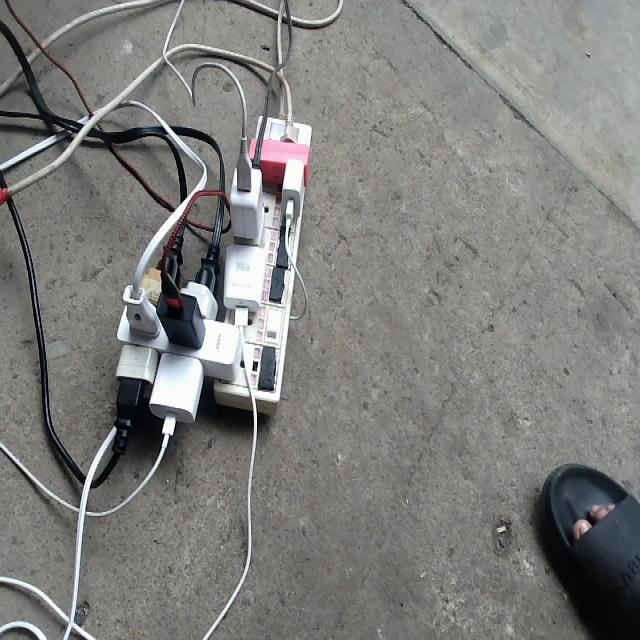-: (109, 100, 311, 437)
